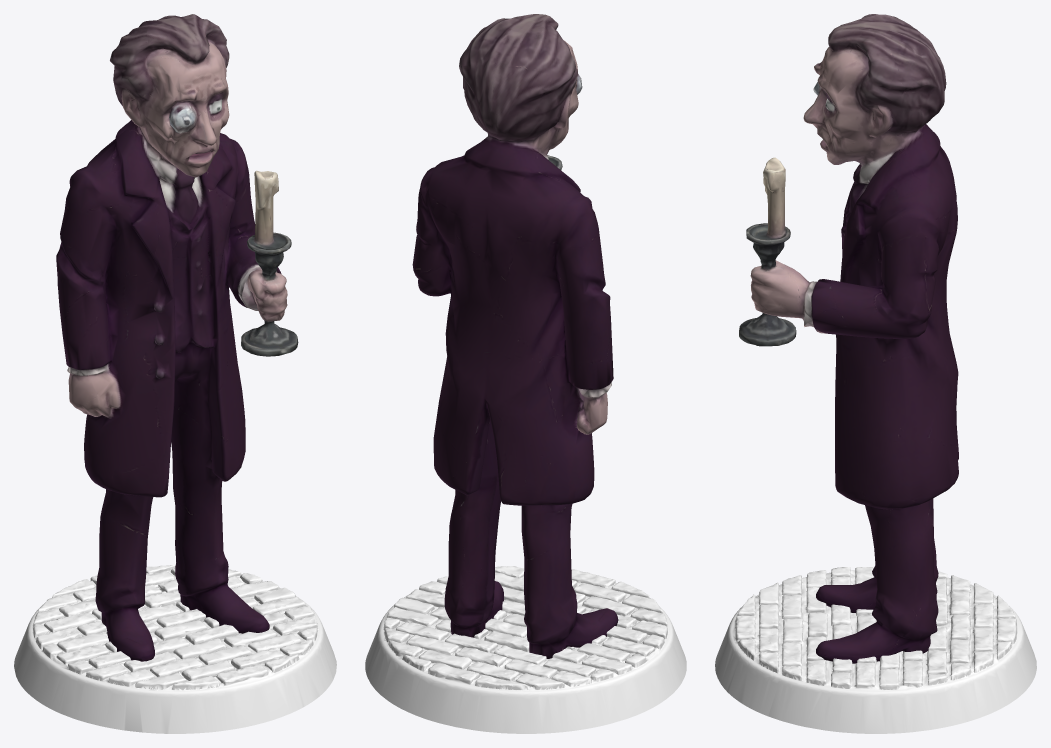
Rendered from diretor_base_apagado.glb.
The picture shows the model from 3 angles, left to right: view 1: azimuth 30°, elevation 25°; view 2: azimuth 150°, elevation 25°; view 3: azimuth 270°, elevation 25°; orthographic projection.
Parts seen in each view (by area): view 1: mesh_node, Object_3.002; view 2: mesh_node, Object_3.002; view 3: mesh_node, Object_3.002.
Boxes of the visible parts, <box> form: mesh_node: <box>56,14,298,661</box>; Object_3.002: <box>14,565,336,733</box>; mesh_node: <box>412,14,618,658</box>; Object_3.002: <box>365,566,686,733</box>; mesh_node: <box>739,14,958,663</box>; Object_3.002: <box>715,567,1036,733</box>.
Bounding box in the file's own units: 0.4184 × 0.9212 × 0.4183.
2 materials, 1 textured.
